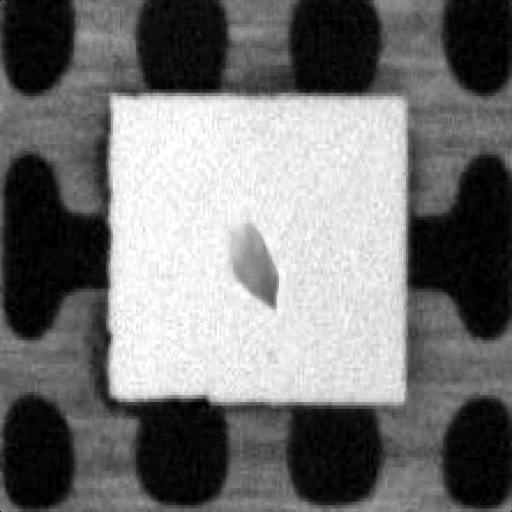DIE_INK: (226, 220, 277, 299)
